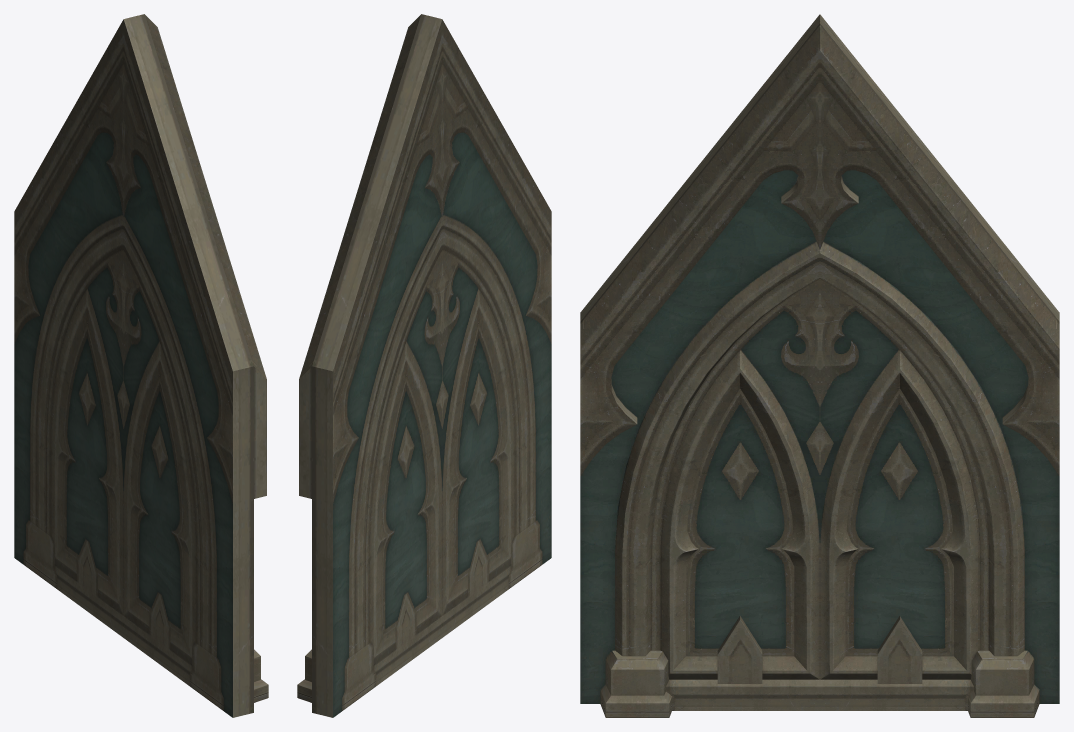
The model's file is bg_rad_kamen_wall01_sm_hhk.obj.
3 renders of one model, left to right at view 1: azimuth 30°, elevation 25°; view 2: azimuth 150°, elevation 25°; view 3: azimuth 270°, elevation 25°, orthographic. The views are drawn at different scales.
Visible parts, largest first — view 1: bg_rad_kamen_wall01_sm_hhk_0; view 2: bg_rad_kamen_wall01_sm_hhk_0; view 3: bg_rad_kamen_wall01_sm_hhk_0.
Boxes of the visible parts, x1=… form: bg_rad_kamen_wall01_sm_hhk_0: x1=14, y1=14, x2=268, y2=717; bg_rad_kamen_wall01_sm_hhk_0: x1=297, y1=14, x2=551, y2=717; bg_rad_kamen_wall01_sm_hhk_0: x1=580, y1=14, x2=1059, y2=717.
Size of the model in its own units: 0.36 by 4.5 by 2.88.
Materials: 1 (1 with a texture image).
